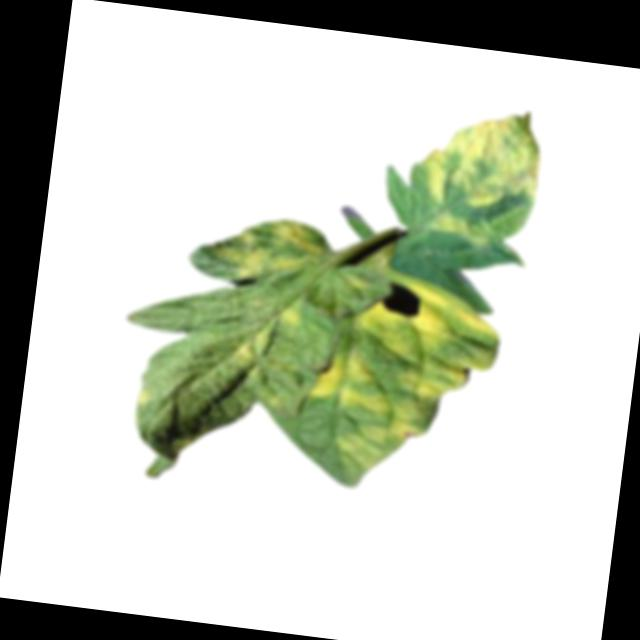Leaf_Mold: (406, 99, 549, 255), (348, 276, 509, 406), (208, 209, 325, 288), (228, 300, 310, 391), (332, 409, 434, 480), (304, 345, 397, 417)
